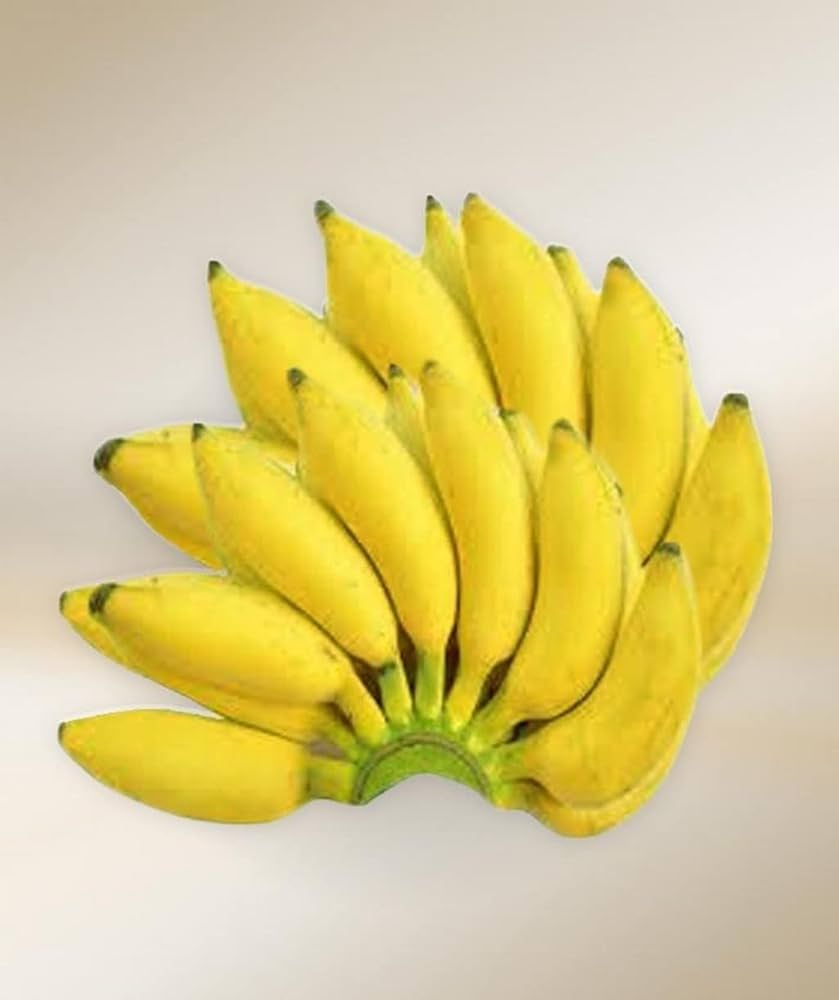banana: (59, 180, 768, 840)
